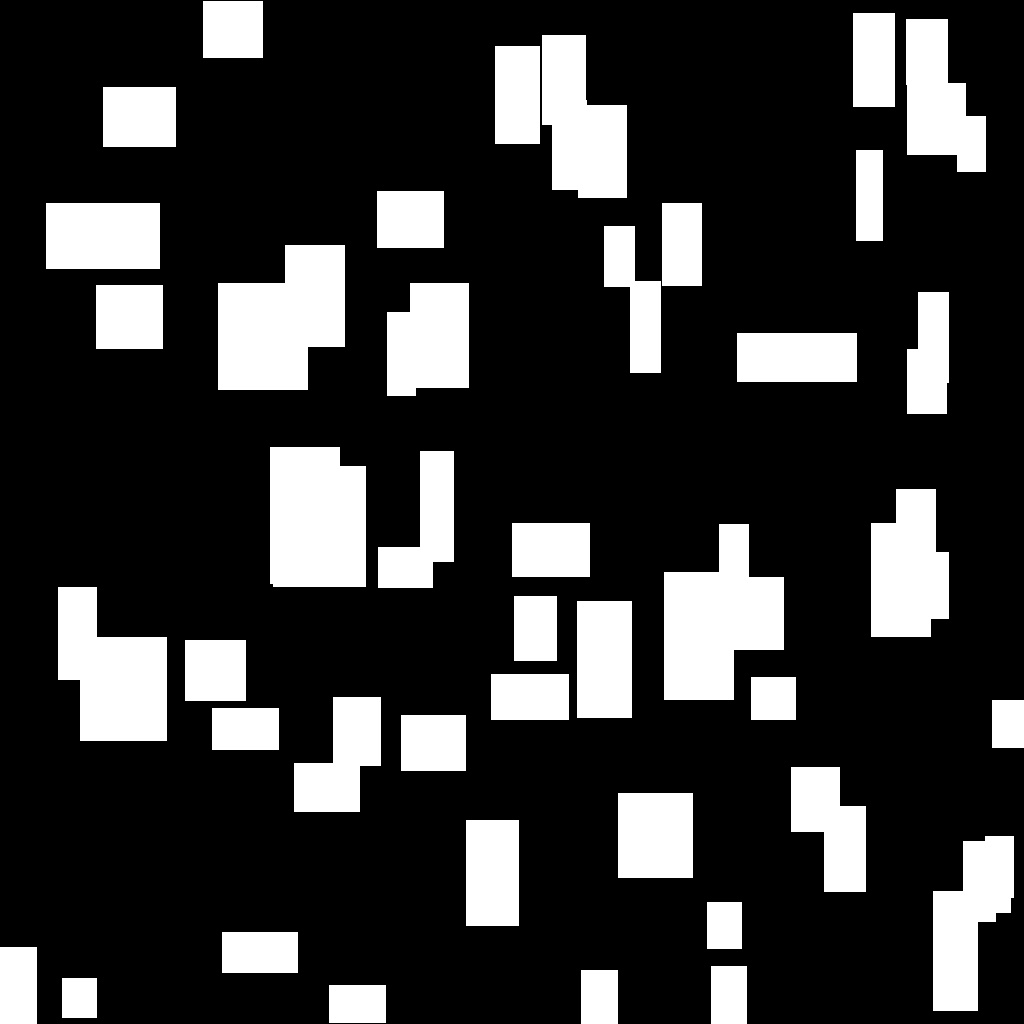wheat_head: (273, 466, 365, 586), (218, 283, 307, 389), (270, 447, 339, 583), (80, 637, 166, 740), (664, 572, 733, 699), (46, 203, 159, 268), (871, 523, 930, 636), (577, 601, 631, 717), (618, 793, 692, 877), (410, 283, 468, 387), (285, 245, 344, 346), (737, 333, 856, 381), (466, 820, 518, 925), (933, 891, 977, 1010), (578, 105, 626, 197), (495, 46, 539, 143), (103, 87, 175, 146), (96, 285, 162, 348), (907, 83, 965, 154), (512, 523, 589, 576), (542, 35, 585, 124), (853, 13, 894, 106), (377, 191, 443, 247), (420, 451, 453, 561), (185, 640, 245, 700), (734, 577, 783, 649), (401, 715, 465, 770), (58, 587, 96, 679), (824, 806, 865, 891), (491, 674, 568, 719), (203, 1, 262, 57), (896, 489, 935, 573), (662, 203, 701, 285), (333, 697, 380, 765), (294, 763, 359, 811), (791, 767, 839, 831), (552, 100, 586, 189), (222, 932, 297, 972), (0, 947, 36, 1024), (630, 281, 660, 372), (212, 708, 278, 749), (918, 292, 948, 382), (514, 596, 556, 660), (906, 19, 947, 84), (963, 841, 995, 921), (907, 349, 946, 413), (976, 841, 1010, 912), (719, 524, 748, 607), (856, 150, 882, 240), (387, 312, 415, 395), (378, 547, 432, 587), (329, 985, 385, 1022), (711, 966, 746, 1024), (581, 970, 617, 1024), (751, 677, 795, 719), (604, 226, 634, 286), (922, 552, 948, 618), (985, 836, 1013, 897), (707, 902, 741, 948), (957, 116, 985, 171), (992, 700, 1024, 747), (62, 978, 96, 1017)
